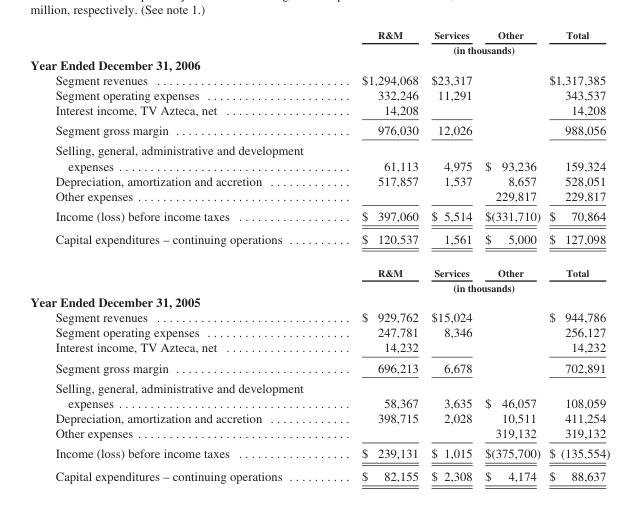table: (29, 28, 609, 482)
table column: (29, 28, 331, 482), (331, 28, 424, 482), (477, 28, 544, 482), (544, 28, 609, 482), (424, 28, 477, 482)
table column header: (29, 28, 609, 56)
table projected row header: (29, 293, 609, 309), (29, 56, 609, 71)
table row: (29, 377, 609, 410), (29, 140, 609, 172), (29, 227, 609, 255), (29, 255, 609, 279), (29, 205, 609, 227), (29, 119, 609, 140), (29, 443, 609, 464), (29, 357, 609, 377), (29, 187, 609, 205), (29, 339, 609, 357), (29, 425, 609, 443), (29, 464, 609, 482), (29, 102, 609, 119), (29, 86, 609, 102), (29, 293, 609, 309), (29, 56, 609, 71), (29, 71, 609, 86), (29, 172, 609, 187), (29, 309, 609, 324), (29, 324, 609, 339), (29, 410, 609, 425), (29, 28, 609, 42), (29, 42, 609, 56), (29, 279, 609, 293)
table spanning cell: (331, 42, 609, 56), (331, 279, 609, 293)
